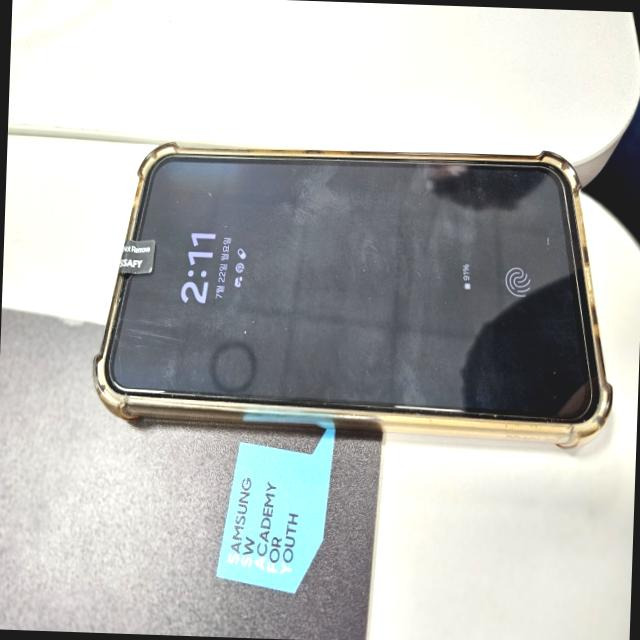phone: (90, 135, 622, 449)
sticker: (114, 233, 156, 278)
